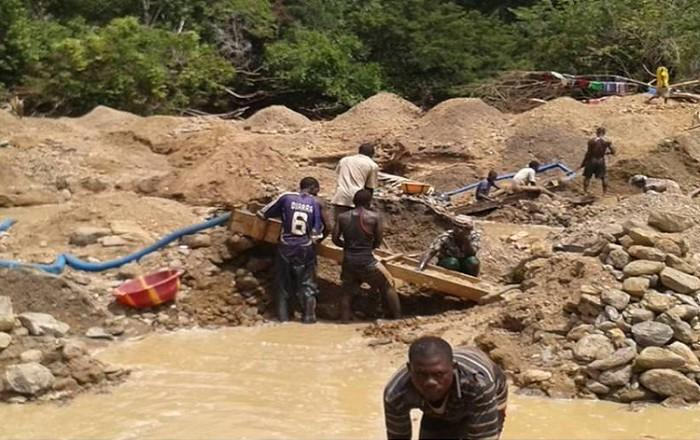MiningTool: (112, 263, 187, 312), (403, 179, 431, 196)
Person: (379, 333, 510, 440), (255, 175, 332, 324), (334, 189, 403, 322), (331, 143, 379, 239), (416, 213, 481, 276), (581, 127, 616, 192), (630, 174, 684, 194), (645, 66, 669, 107), (474, 171, 501, 202), (513, 160, 538, 188)
ProcessingEquipment: (232, 197, 519, 304), (447, 179, 565, 216)
